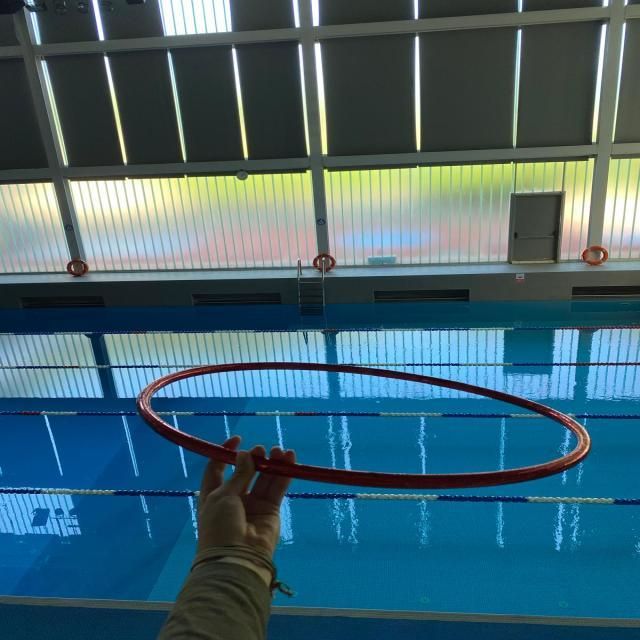Circle: (135, 361, 594, 491)
